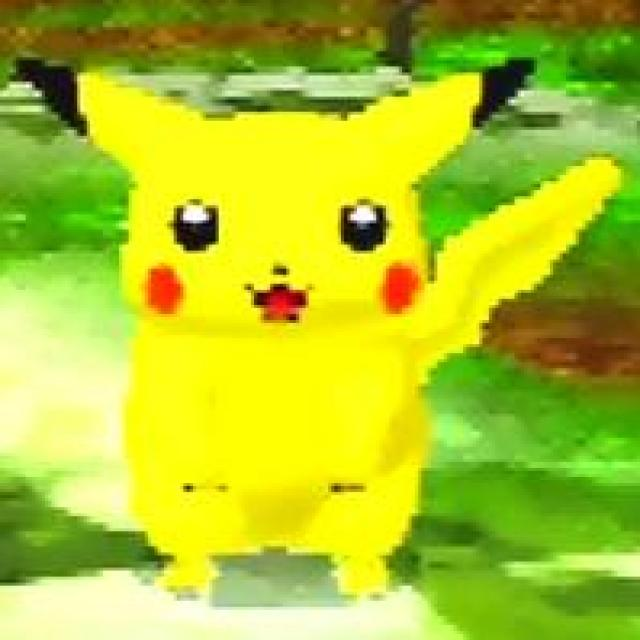pikachu: (14, 54, 622, 600)
